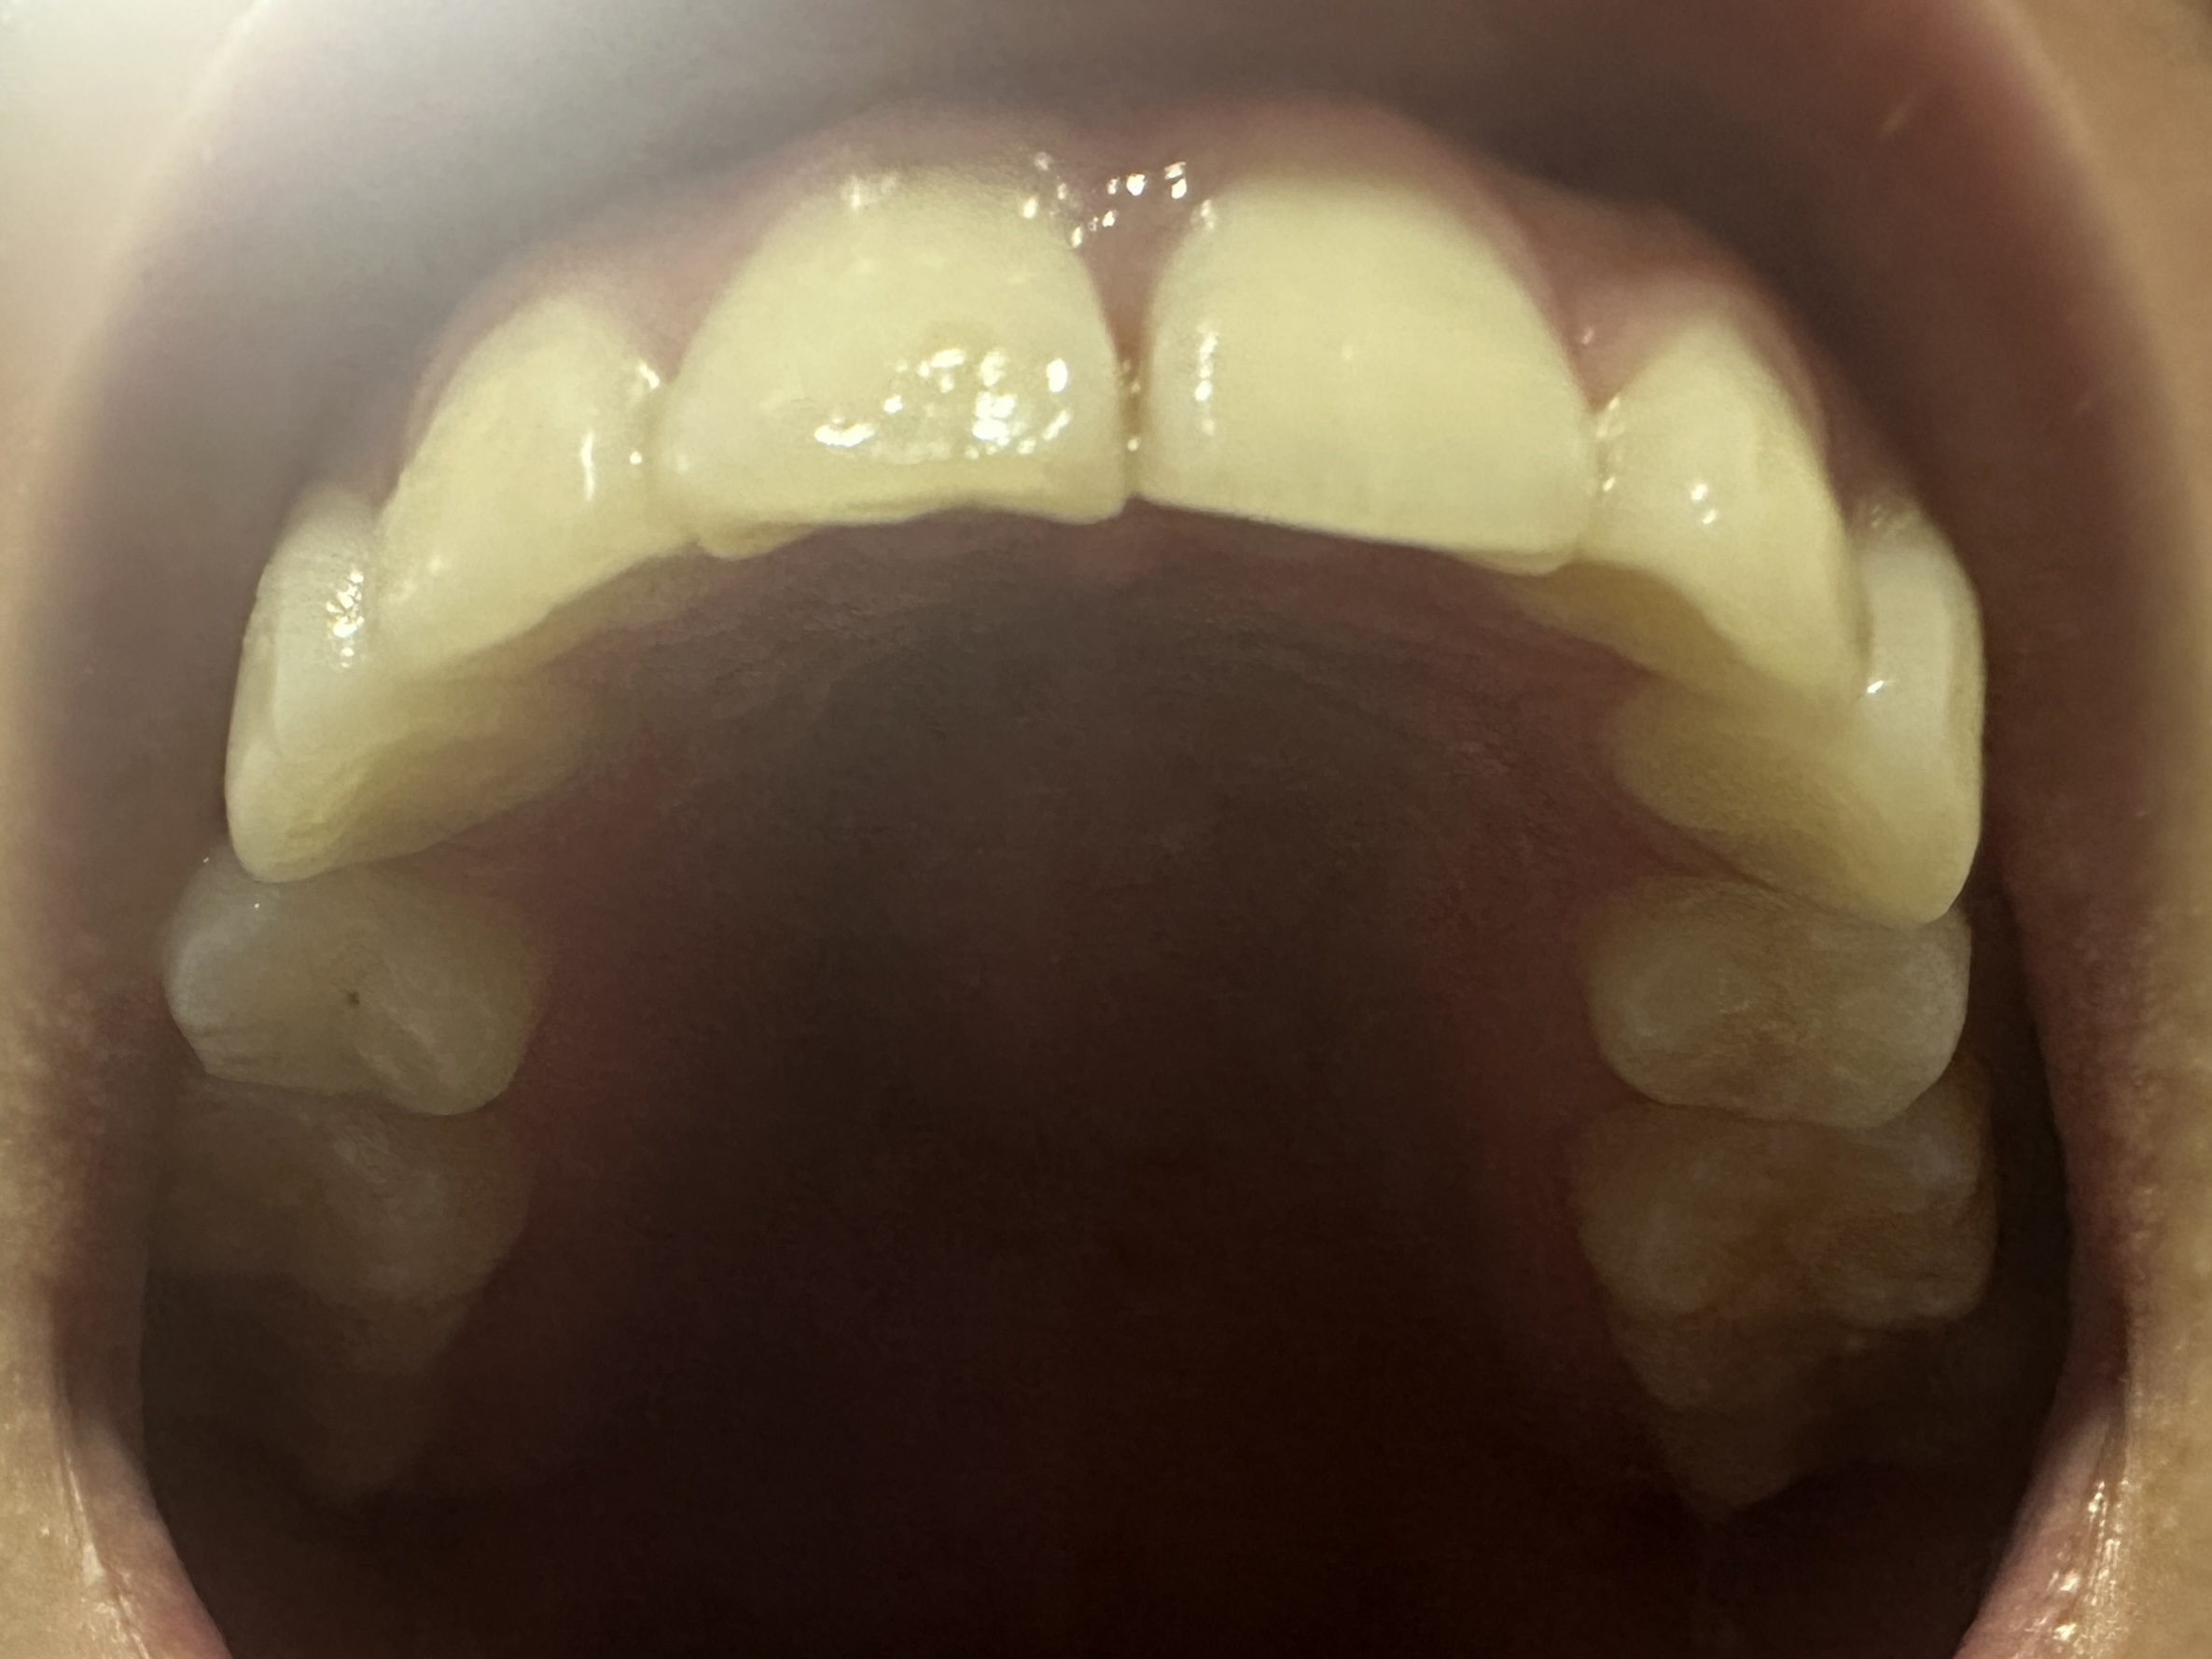teeth: (1148, 169, 1585, 577), (678, 166, 1127, 556), (1606, 511, 1991, 911), (233, 474, 606, 863), (1522, 319, 1857, 702), (1583, 1108, 1994, 1412), (152, 1073, 509, 1377), (387, 305, 676, 657), (160, 850, 514, 1121), (1592, 885, 1970, 1122)
